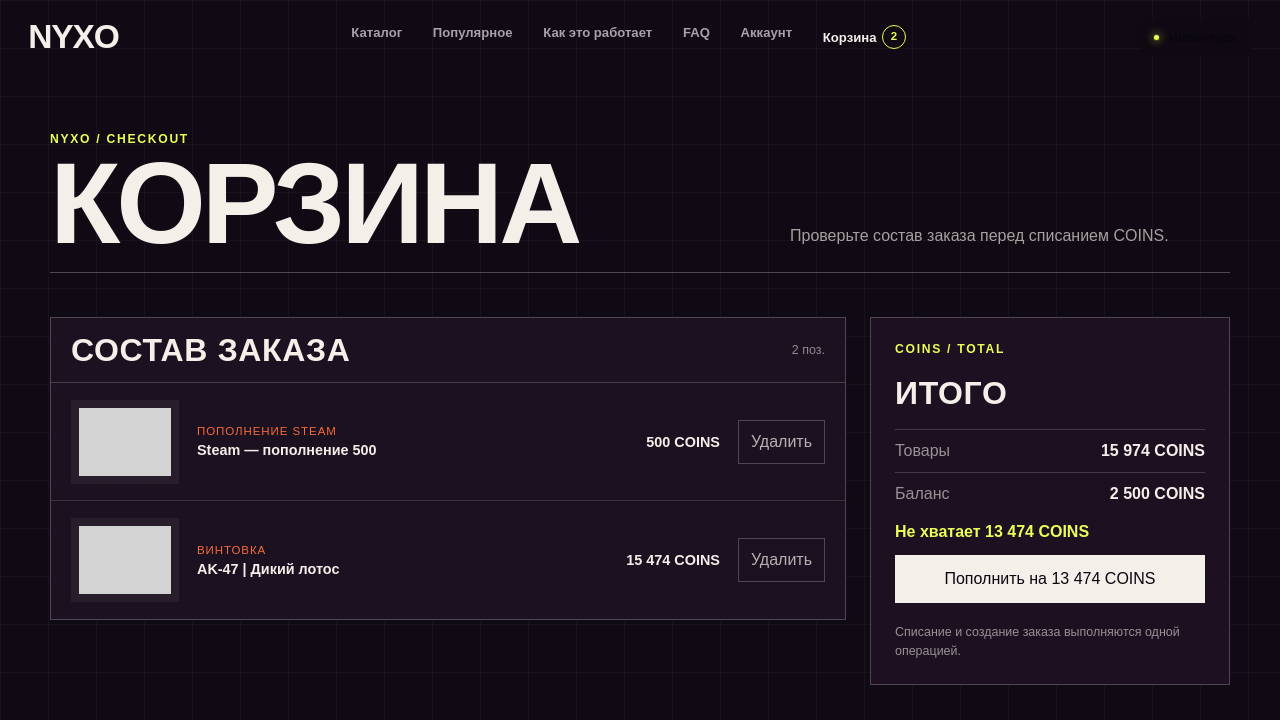
Scenario: CartPage › removes a shared product row and persists the cart
Expected: the text "Steam — пополнение 500" is shown, [197, 442, 377, 458]
Click the button "Удалить" in the row of "Пополнение Steam".
click(781, 442)  # box [738, 420, 825, 464]
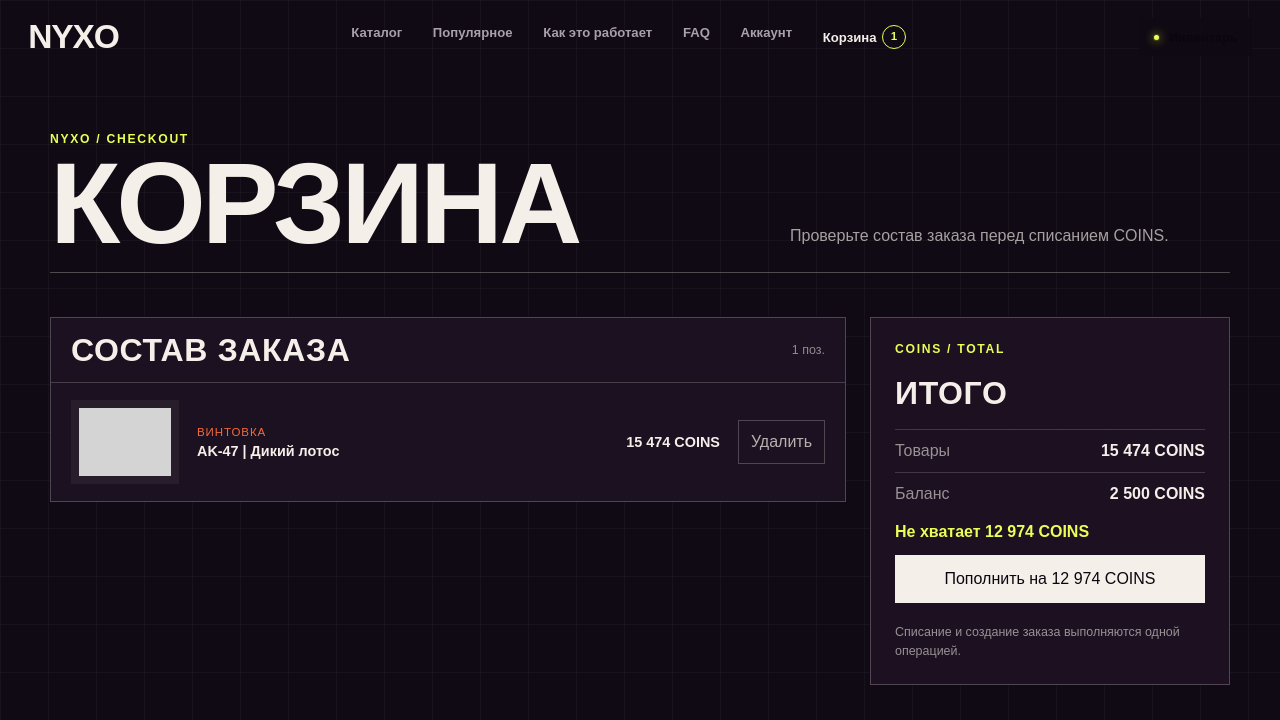
Now the text "Steam — пополнение 500" is gone
